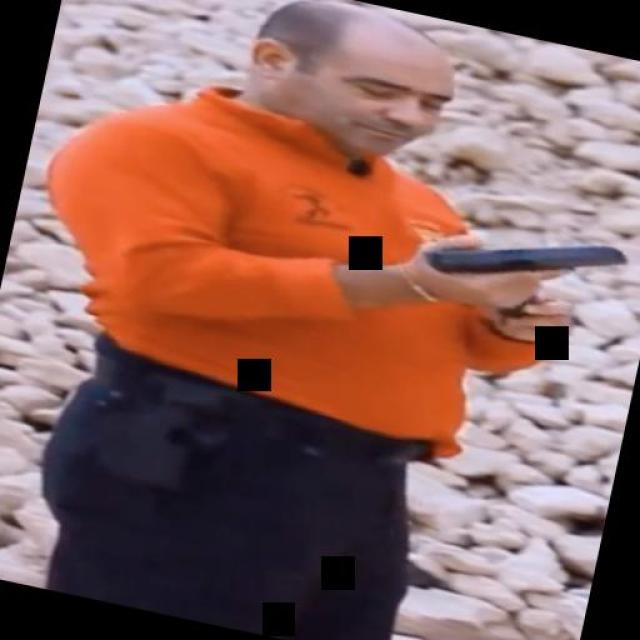gun: (411, 204, 629, 335)
